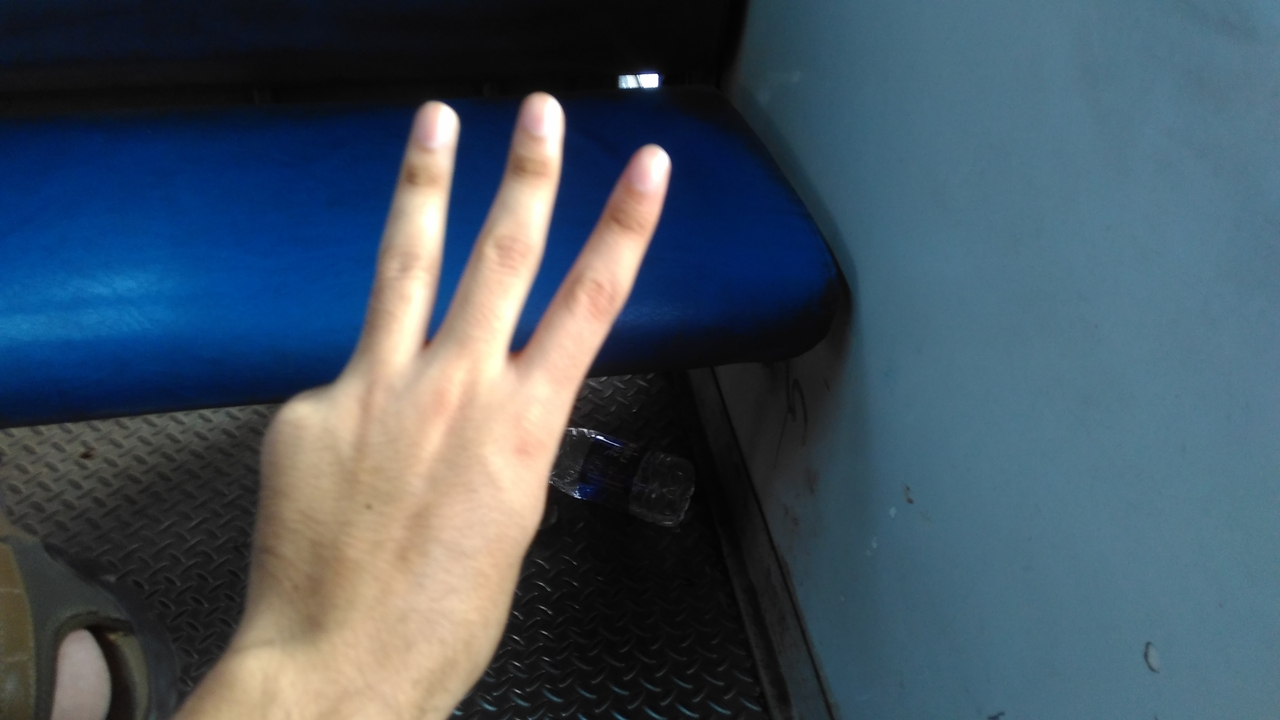fingertip: (610, 134, 680, 198), (394, 94, 466, 152), (500, 82, 568, 140)
